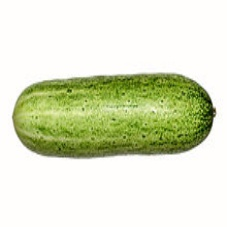cucumber: (13, 70, 219, 160)
